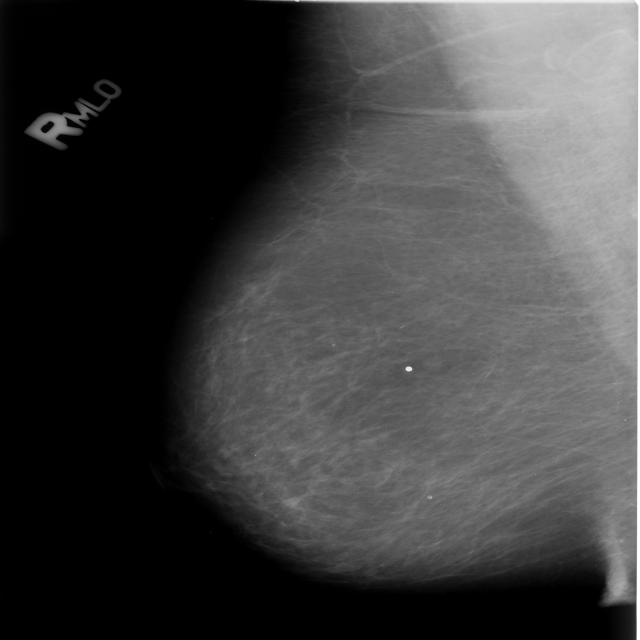normal: (166, 0, 640, 615)
